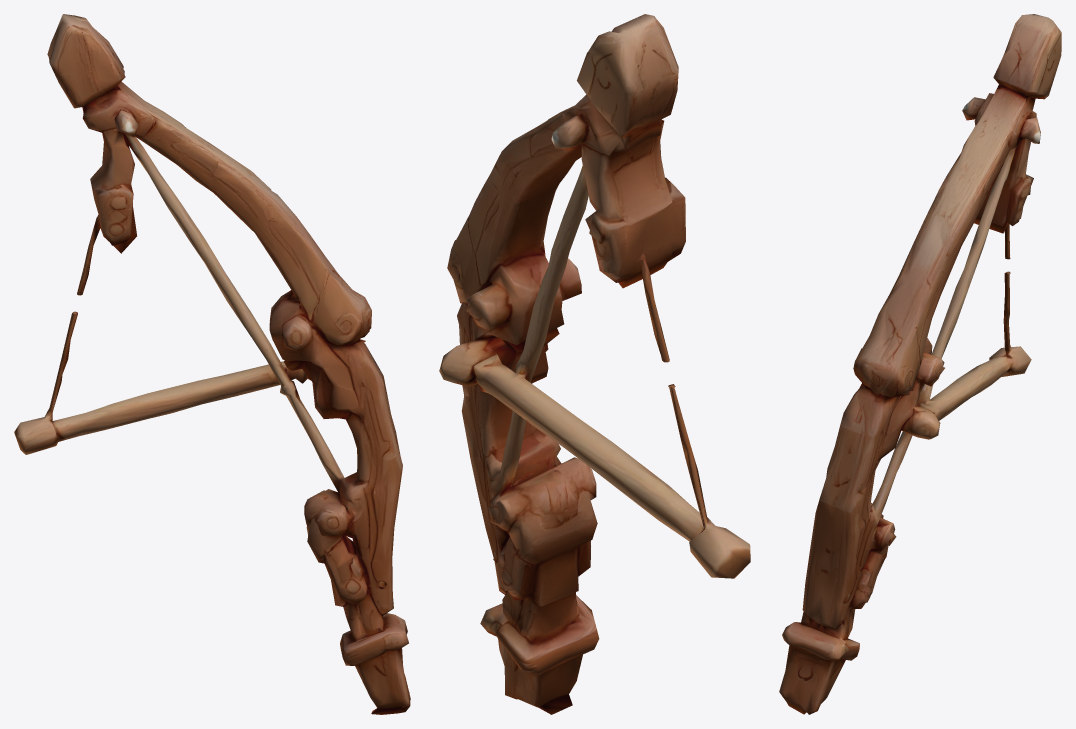
The model's file is item_shortbow.glb.
The picture shows the model from 3 angles, left to right: view 1: azimuth 30°, elevation 25°; view 2: azimuth 150°, elevation 25°; view 3: azimuth 270°, elevation 25°; orthographic projection. The views are drawn at different scales.
Visible parts, largest first — view 1: tripo_node_6387044e-9e52-4e6b-a5f1-0a429ec2d11e; view 2: tripo_node_6387044e-9e52-4e6b-a5f1-0a429ec2d11e; view 3: tripo_node_6387044e-9e52-4e6b-a5f1-0a429ec2d11e.
Part boxes in pixels (bbox=[...]): tripo_node_6387044e-9e52-4e6b-a5f1-0a429ec2d11e: bbox=[14, 14, 410, 714]; tripo_node_6387044e-9e52-4e6b-a5f1-0a429ec2d11e: bbox=[439, 14, 750, 714]; tripo_node_6387044e-9e52-4e6b-a5f1-0a429ec2d11e: bbox=[779, 14, 1061, 714].
Bounding box in the file's own units: 0.4781 × 1 × 0.4244.
Materials: 1 (1 with a texture image).
